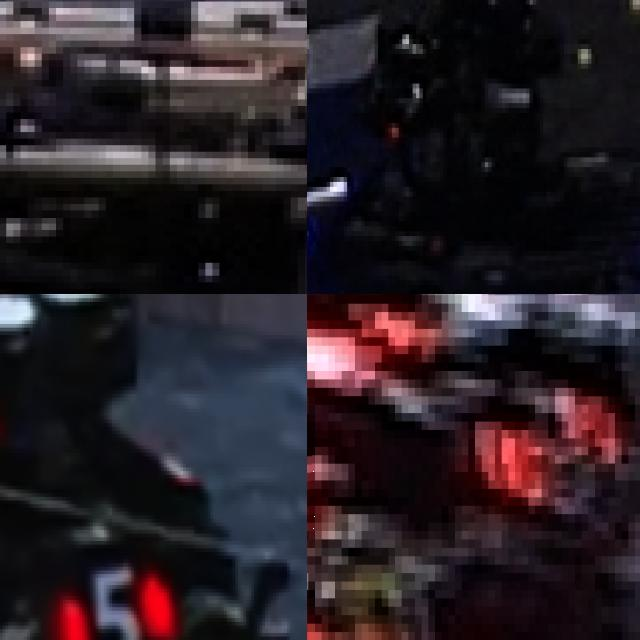B1: (307, 127, 350, 265)
R3: (482, 380, 622, 514)
R5: (57, 563, 172, 640)
